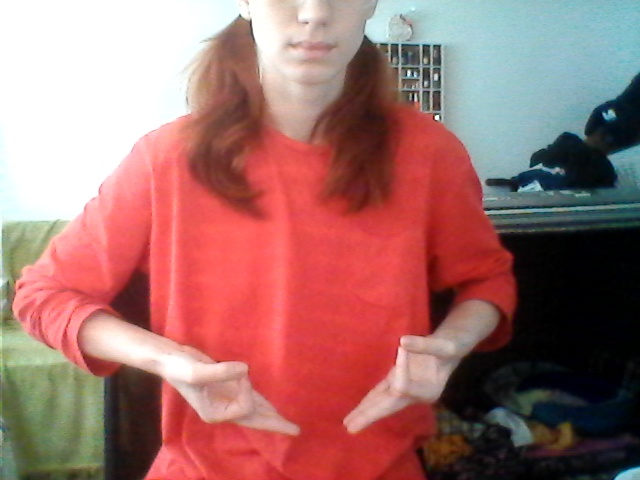preco: (169, 321, 458, 439)
